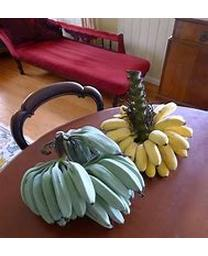banana: (19, 126, 144, 229), (104, 103, 195, 181)
